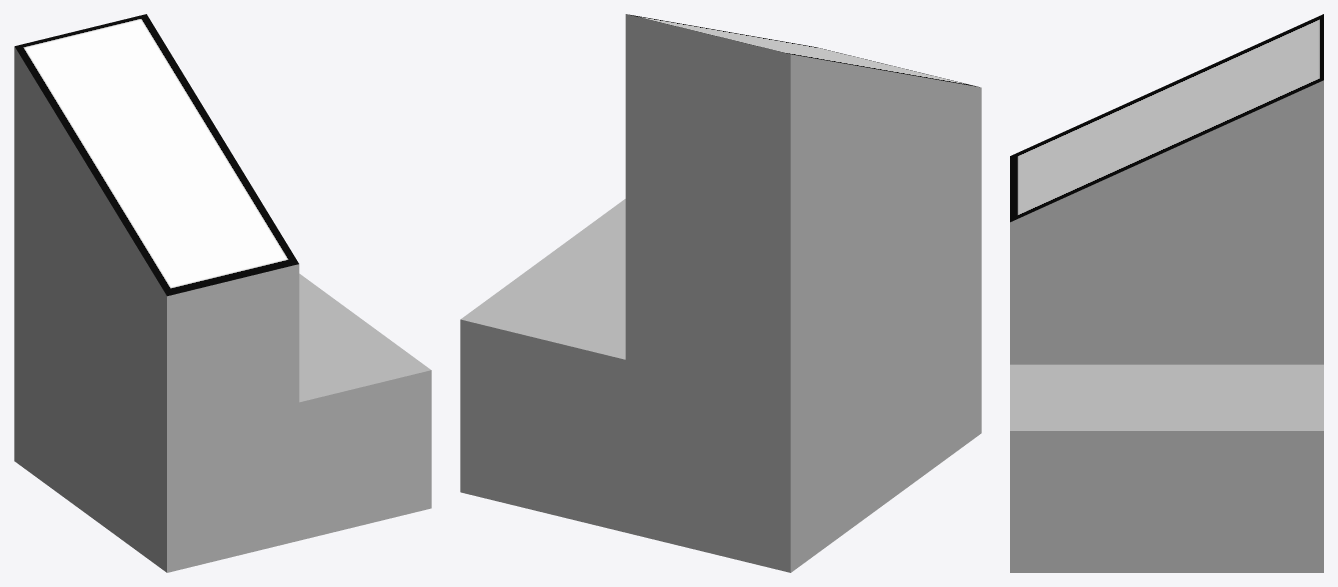
The model's file is Fig2cT.dae.
3 views of the same model, side by side, from view 1: azimuth 30°, elevation 25°; view 2: azimuth 150°, elevation 25°; view 3: azimuth 270°, elevation 25° (orthographic). The views are drawn at different scales.
Visible parts, largest first — view 1: Model; view 2: Model; view 3: Model.
Boxes of the visible parts, left/top/right/bottom form: Model: left=14, top=14, right=431, bottom=572; Model: left=460, top=14, right=981, bottom=572; Model: left=1010, top=14, right=1323, bottom=572.
Size of the model in its own units: 200 by 300 by 200.
